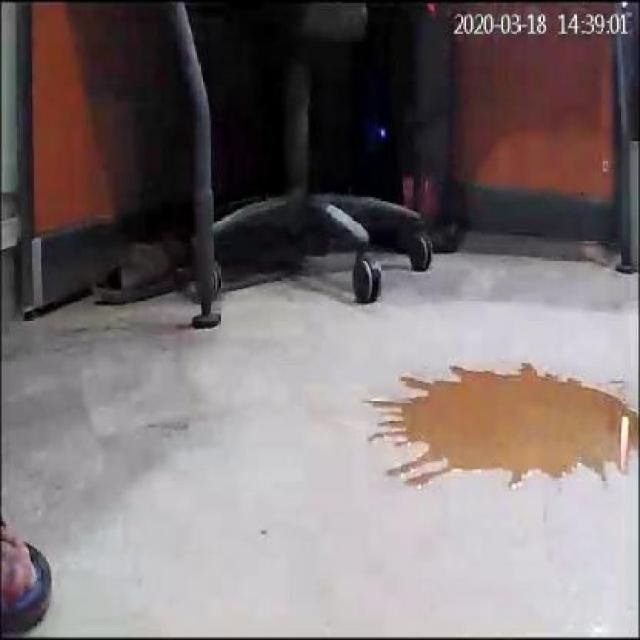spill: (350, 357, 630, 508)
